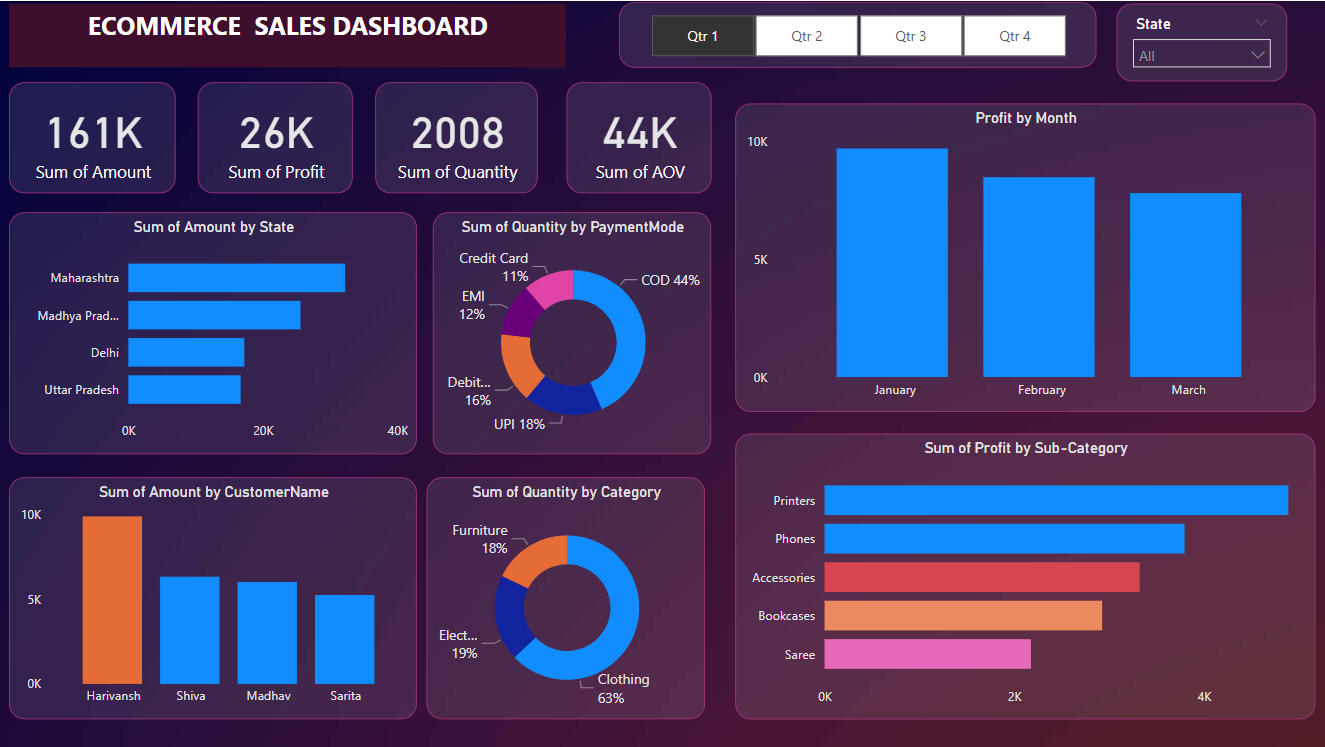

Layout of this report page (visuals, bound fields, positions):
{"tool":"powerbi","page":{"name":"Page 1","canvas":[1280,720],"ordinal":0},"visuals":[{"type":"textbox","box":[9.6,2.7,537.9,61.7],"z":0},{"type":"columnChart","title":"Profit by Month","fields":{"Y":["Details.Profit"],"Category":["Orders.Order Date.Variation.Date Hierarchy.Month"]},"box":[710.8,98.8,559.9,297.8],"z":1000},{"type":"barChart","fields":{"Category":["Details.Sub-Category"],"Y":["Details.Profit"]},"box":[710.8,417.2,559.9,275.8],"z":2000},{"type":"donutChart","fields":{"Category":["Details.Category"],"Y":["Details.Quantity"]},"box":[413,459.7,269,233.3],"z":3000},{"type":"donutChart","fields":{"Category":["Details.PaymentMode"],"Y":["Details.Quantity"]},"box":[418.5,204.5,269,233.3],"z":4000},{"type":"card","fields":{"Values":["Details.Amount"]},"box":[9.6,78.2,160.5,107],"z":5000},{"type":"card","fields":{"Values":["Details.Profit"]},"box":[192.1,78.2,149.6,107],"z":6000},{"type":"card","fields":{"Values":["Details.Quantity"]},"box":[363.6,78.2,156.4,107],"z":7000},{"type":"card","fields":{"Values":["Details.AOV"]},"box":[547.5,78.2,140,107],"z":8000},{"type":"barChart","fields":{"Category":["Orders.State"],"Y":["Details.Amount"]},"box":[9.6,204.5,393.8,233.3],"z":9000},{"type":"slicer","fields":{"Values":["Orders.Order Date.Variation.Date Hierarchy.Quarter"]},"box":[598.3,1.4,461.1,63.1],"z":10000},{"type":"slicer","fields":{"Values":["Orders.State"]},"box":[1078.6,2.7,164.7,75.5],"z":11000},{"type":"columnChart","fields":{"Category":["Orders.CustomerName"],"Y":["Details.Amount"]},"box":[9.6,459.7,393.8,233.3],"z":12000}]}

Visuals, with their boxes in screenshot pixels (x1, y1, x2, y2), scaled from the page's 1280x720 canvas onto the 1325x747 screenshot:
textbox: crop(10, 3, 567, 67)
"Profit by Month" columnChart: crop(736, 103, 1315, 411)
barChart - Details.Sub-Category x Details.Profit: crop(736, 433, 1315, 719)
donutChart - Details.Category x Details.Quantity: crop(428, 477, 706, 719)
donutChart - Details.PaymentMode x Details.Quantity: crop(433, 212, 712, 454)
card - Details.Amount: crop(10, 81, 176, 192)
card - Details.Profit: crop(199, 81, 354, 192)
card - Details.Quantity: crop(376, 81, 538, 192)
card - Details.AOV: crop(567, 81, 712, 192)
barChart - Orders.State x Details.Amount: crop(10, 212, 418, 454)
slicer - Orders.Order Date.Variation.Date Hierarchy.Quarter: crop(619, 1, 1097, 67)
slicer - Orders.State: crop(1117, 3, 1287, 81)
columnChart - Orders.CustomerName x Details.Amount: crop(10, 477, 418, 719)
